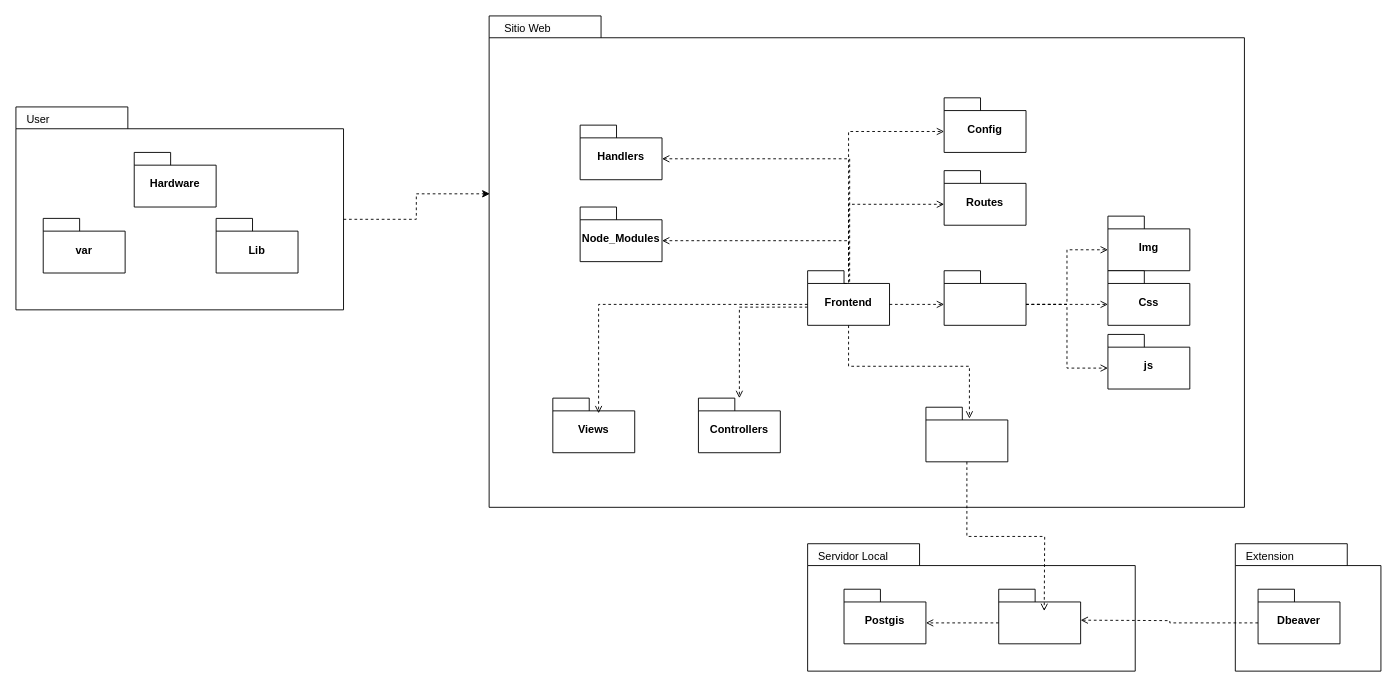
This 1397x687 diagram has some shape labels left out. Each missing label, with the box of its shape:
Models: (925, 406, 1008, 462)
PostgreSQL: (998, 588, 1081, 644)
Public: (943, 270, 1026, 325)
